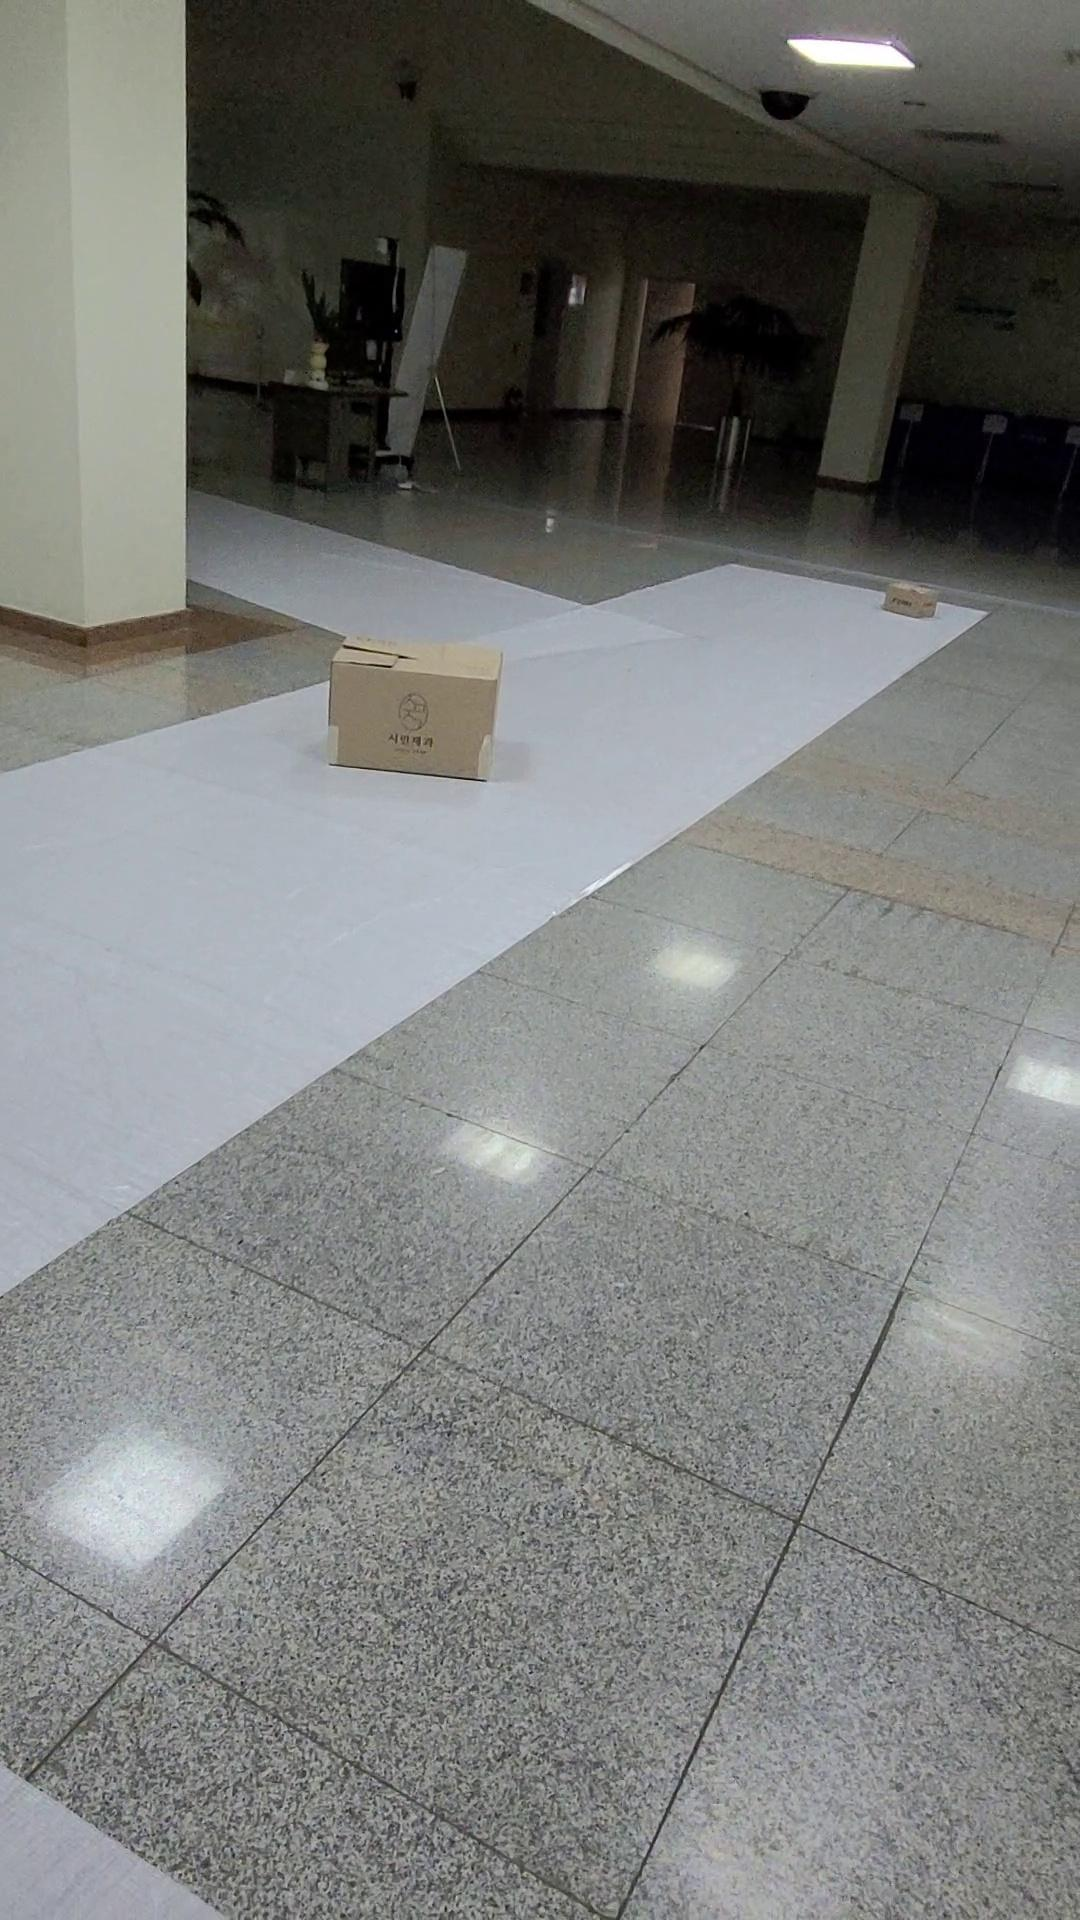Box: (287, 603, 522, 815), (878, 570, 938, 630)
